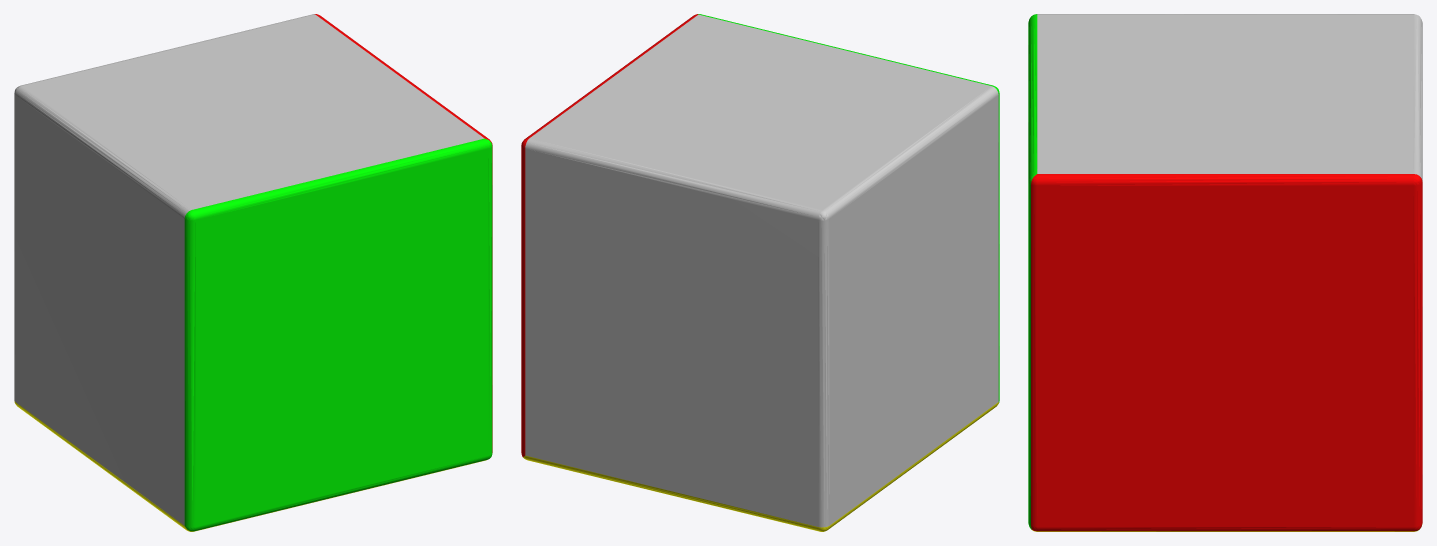
File: DRF.obj
The picture shows the model from 3 angles, left to right: view 1: azimuth 30°, elevation 25°; view 2: azimuth 150°, elevation 25°; view 3: azimuth 270°, elevation 25°; orthographic projection. The views are drawn at different scales.
Visible parts, largest first — view 1: corner_DRF; view 2: corner_DRF; view 3: corner_DRF.
Boxes of the visible parts, x1,y1,x2,y2 form: corner_DRF: [14, 14, 492, 531]; corner_DRF: [521, 14, 999, 531]; corner_DRF: [1028, 14, 1422, 531].
Bounding box in the file's own units: 0.2003 × 0.2003 × 0.2003.
1 material, 1 textured.
